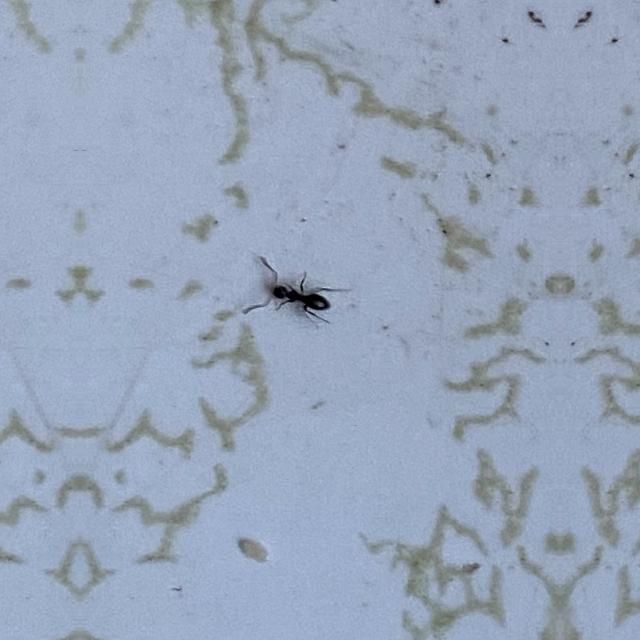Tapinoma: (260, 265, 334, 325)
